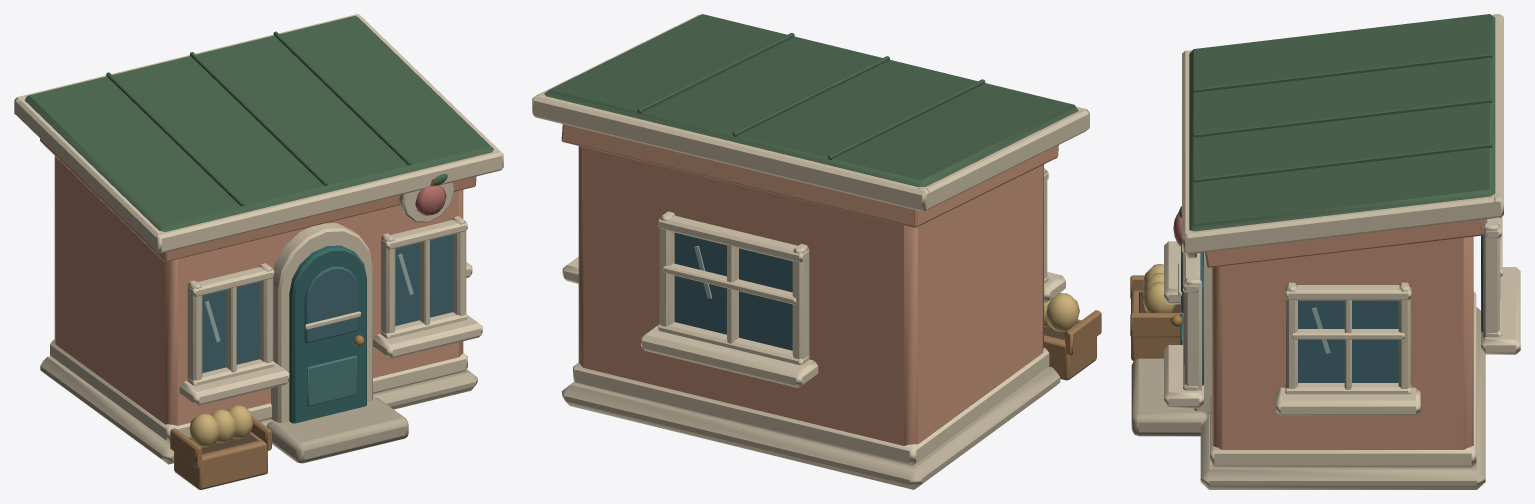
File: grocer_level_1.glb
3 views of the same model, side by side, from view 1: azimuth 30°, elevation 25°; view 2: azimuth 150°, elevation 25°; view 3: azimuth 270°, elevation 25° (orthographic). The views are drawn at different scales.
Parts seen in each view (by area): view 1: grocer_level_1_runtime; view 2: grocer_level_1_runtime; view 3: grocer_level_1_runtime.
Boxes of the visible parts, x1,y1,x2,y2 form: grocer_level_1_runtime: [14, 14, 503, 489]; grocer_level_1_runtime: [532, 14, 1101, 489]; grocer_level_1_runtime: [1130, 14, 1520, 489].
Bounding box in the file's own units: 3.43 × 2.58 × 2.95.
